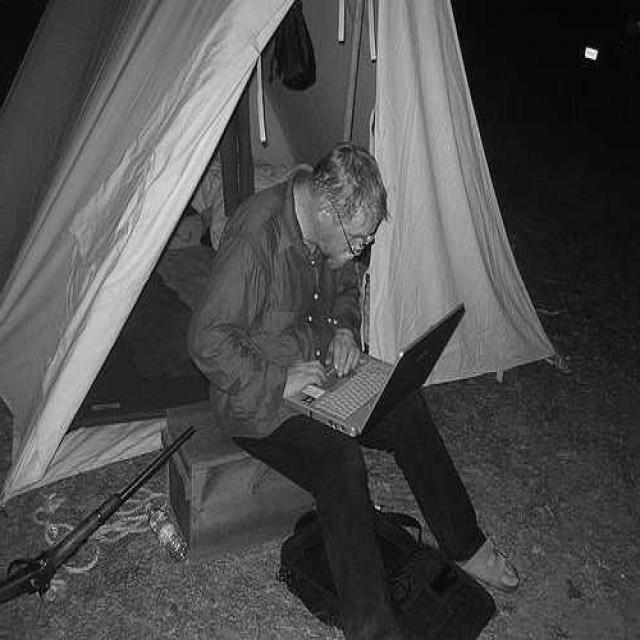laptop: (282, 306, 474, 461)
